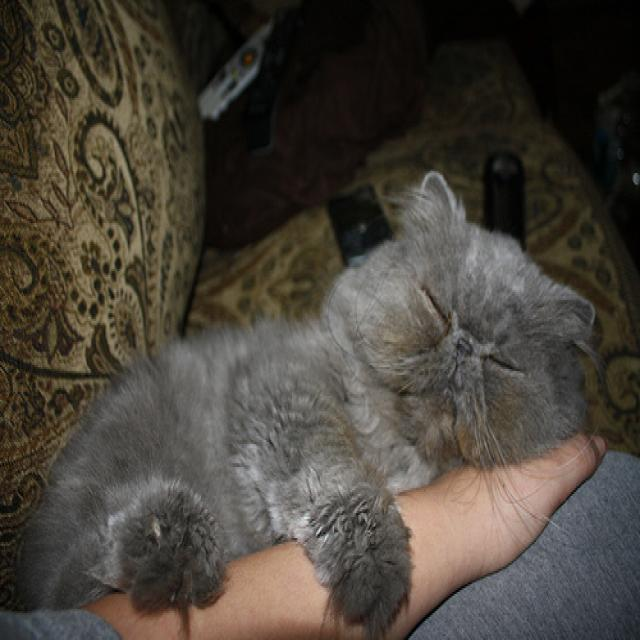Persian: (357, 167, 593, 461)
